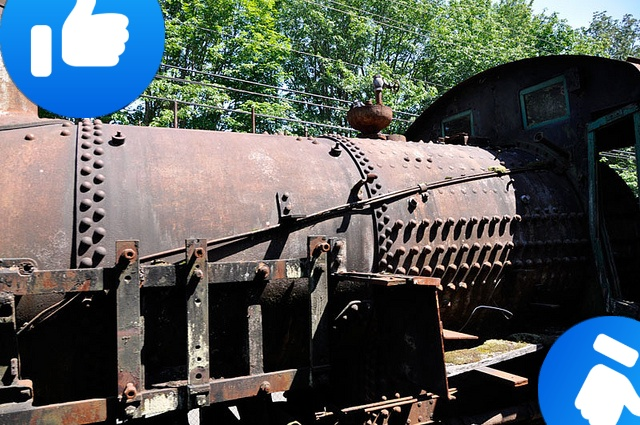like: (0, 0, 165, 118), (538, 316, 640, 425)
